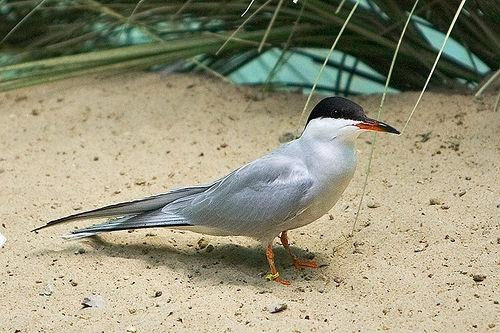bird: (60, 97, 398, 286)
